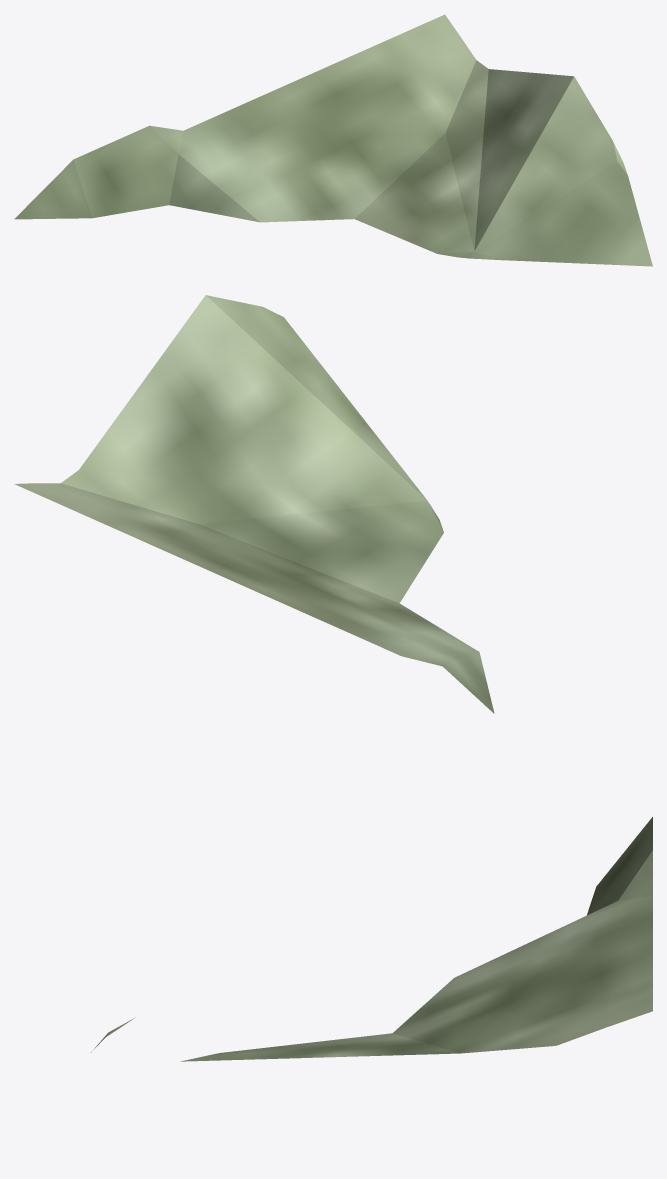
3 views of the same model, one above another, from view 1: azimuth 30°, elevation 25°; view 2: azimuth 150°, elevation 25°; view 3: azimuth 270°, elevation 25° (orthographic). The views are drawn at different scales.
Bounding box in the file's own units: 1.12 × 0.3297 × 0.9375.
1 material, 1 textured.
